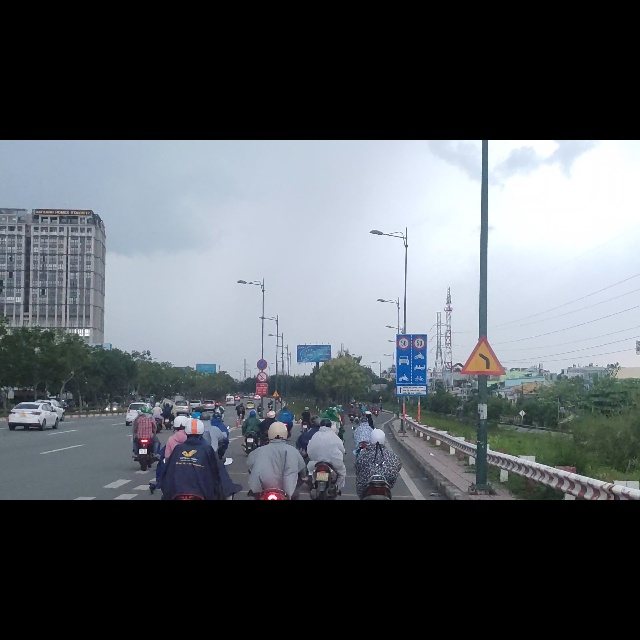bien_chi_dan: (459, 344, 506, 421), (412, 347, 426, 374), (397, 348, 411, 373), (255, 388, 268, 411), (256, 411, 268, 431), (271, 443, 281, 457)
